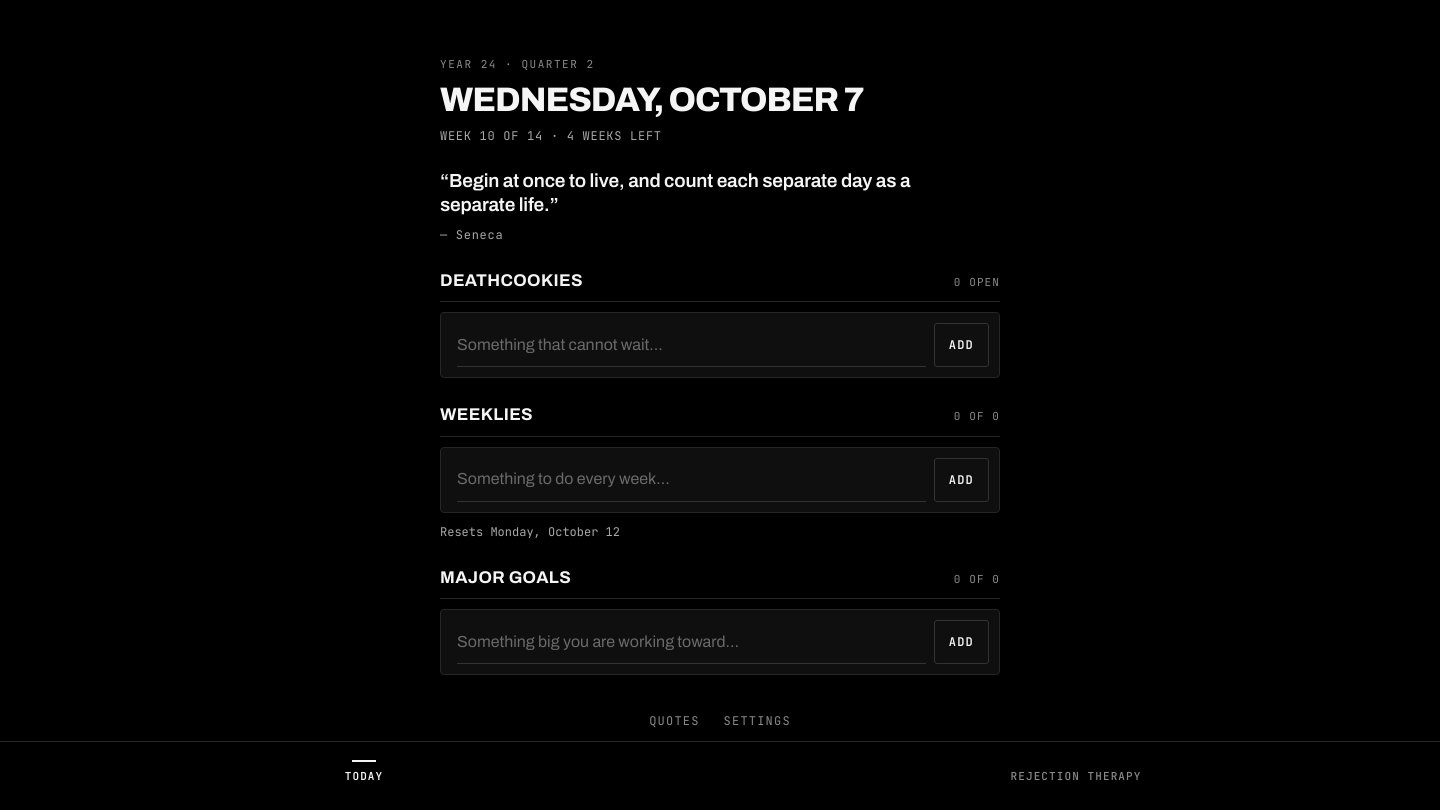
Scenario: setting a password › just confirms when the account already has one
Click the button "Settings".
click(757, 721)  # box [720, 699, 795, 743]
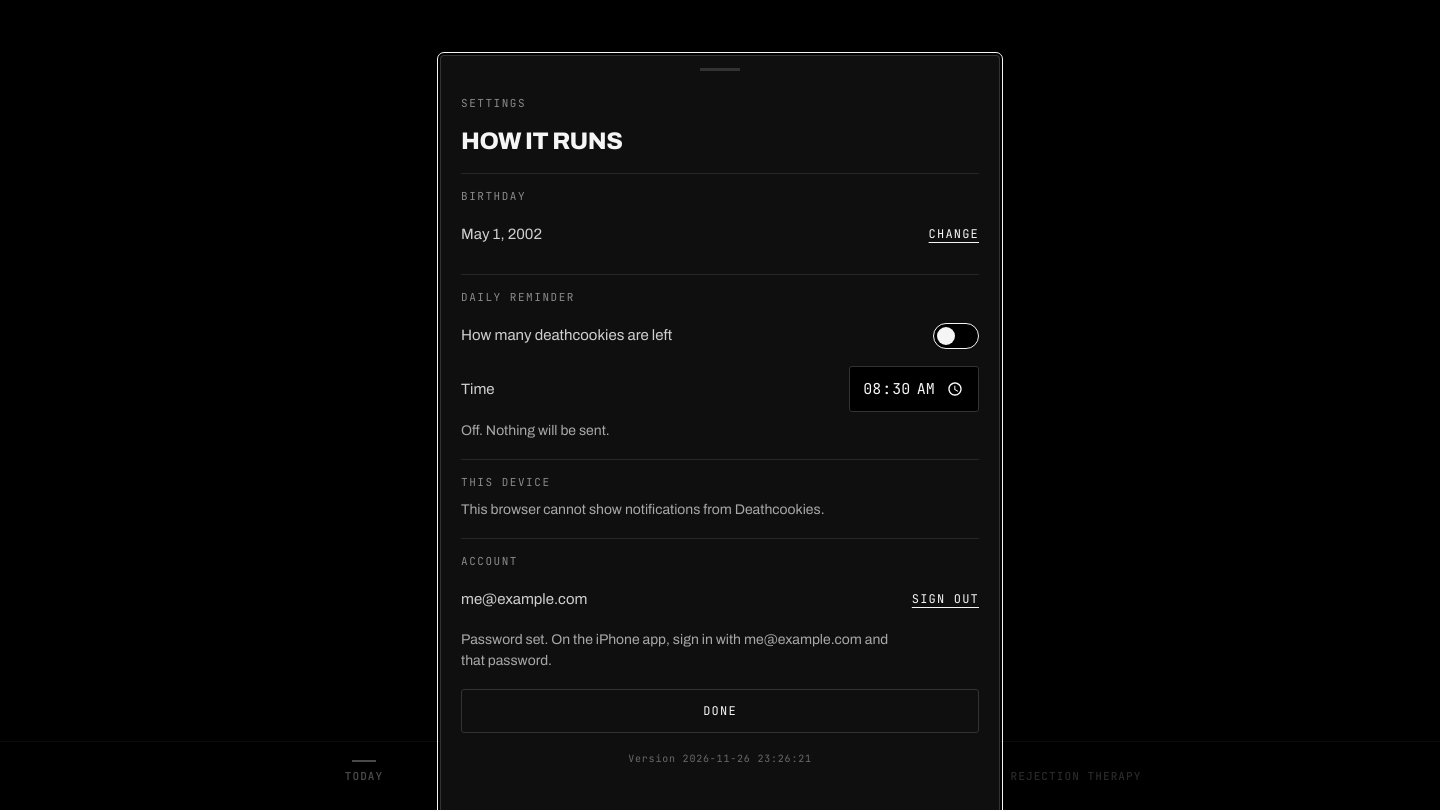
Expected: the text "Password set" is shown, [461, 632, 744, 647]
